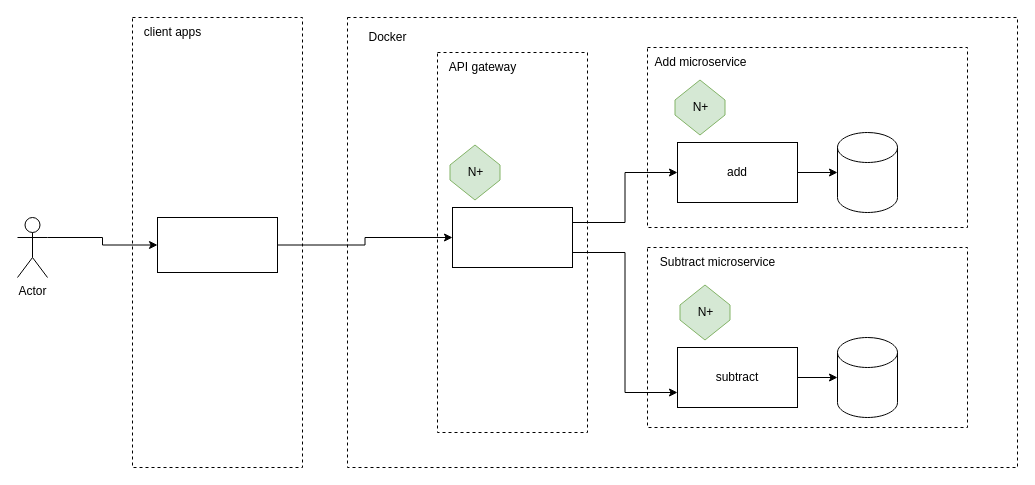
Image size: 1035x485. Some labels were removed from this diagram. Here are the shapes that lost their labels. From the top down, the centre of each, then its label:
At (x=217, y=244): "Web App (front)".
At (x=512, y=237): "gateway".
